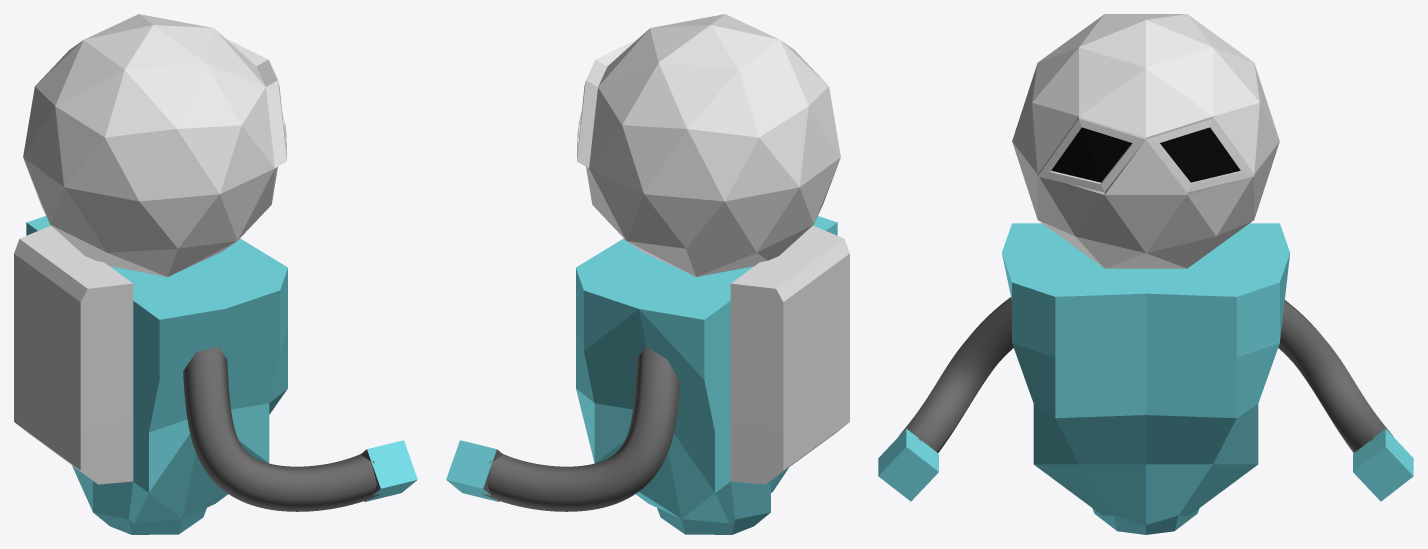
The model's file is dummy.fbx.
3 renders of one model, left to right at view 1: azimuth 30°, elevation 25°; view 2: azimuth 150°, elevation 25°; view 3: azimuth 270°, elevation 25°, orthographic.
Parts seen in each view (by area): view 1: Body, Head, Arms; view 2: Body, Head, Arms; view 3: Body, Head, Arms.
Part boxes in pixels (left/top/right/bottom): Body: left=14, top=216, right=287, bottom=534; Head: left=23, top=14, right=286, bottom=276; Arms: left=183, top=346, right=417, bottom=511; Body: left=576, top=216, right=849, bottom=534; Head: left=577, top=14, right=840, bottom=276; Arms: left=446, top=346, right=680, bottom=511; Body: left=1002, top=223, right=1289, bottom=534; Head: left=1012, top=14, right=1279, bottom=268; Arms: left=878, top=297, right=1413, bottom=501.
Bounding box in the file's own units: 209 × 407 × 400.
